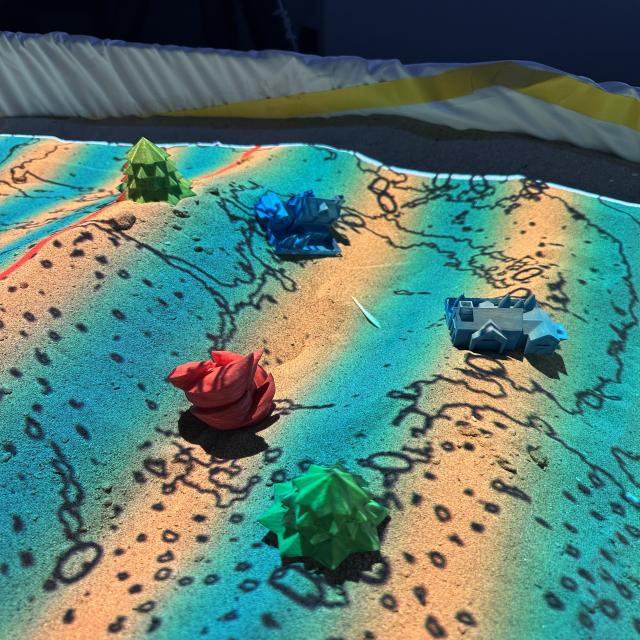fire: (167, 347, 275, 431)
house: (443, 289, 568, 355), (253, 188, 346, 256)
tree: (255, 461, 392, 572), (114, 136, 196, 205)
